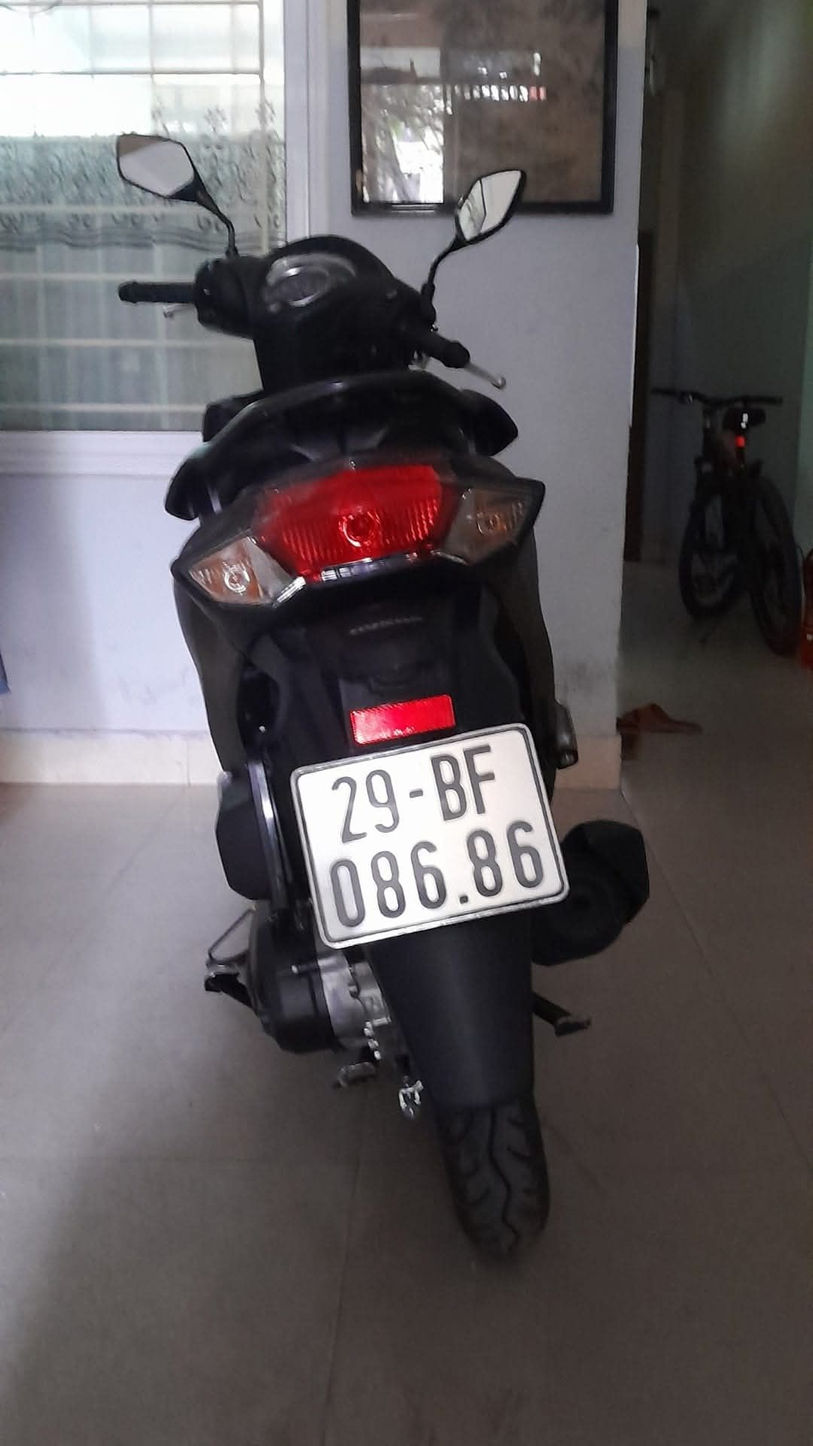bien_so: (278, 711, 581, 955)
